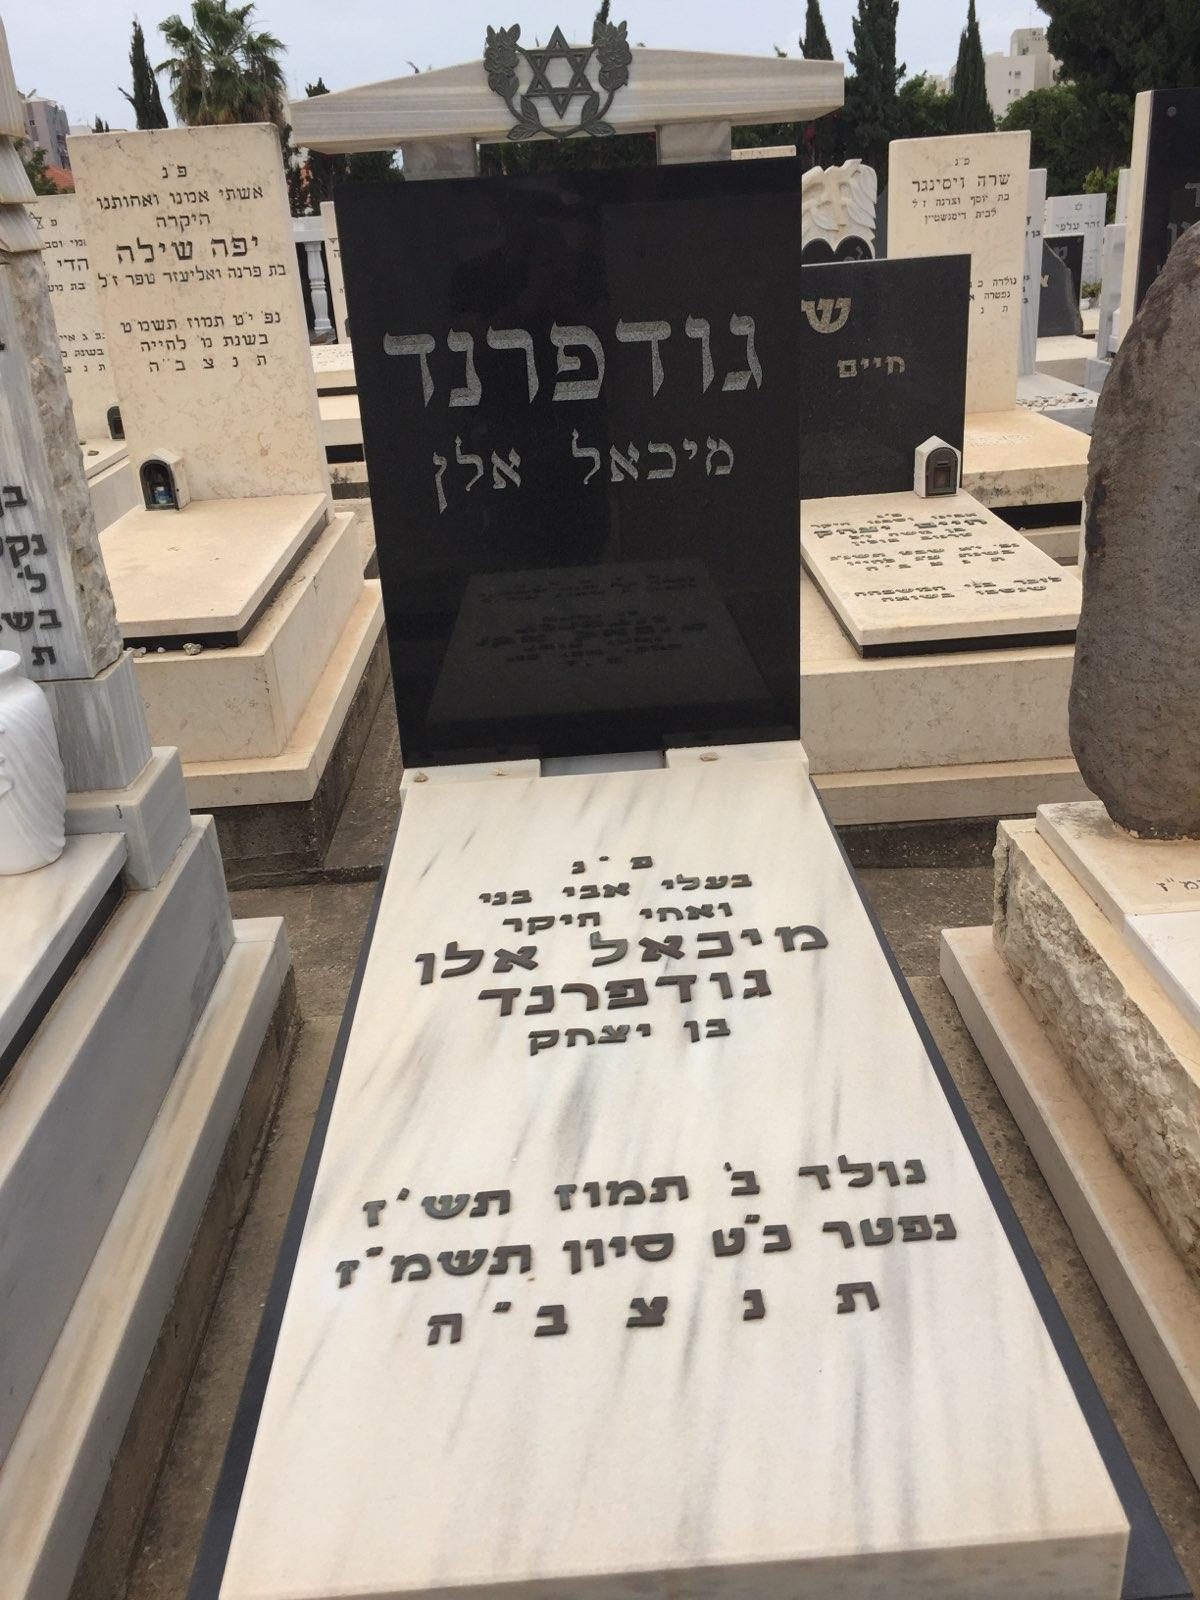vault: (218, 164, 1126, 1600)
